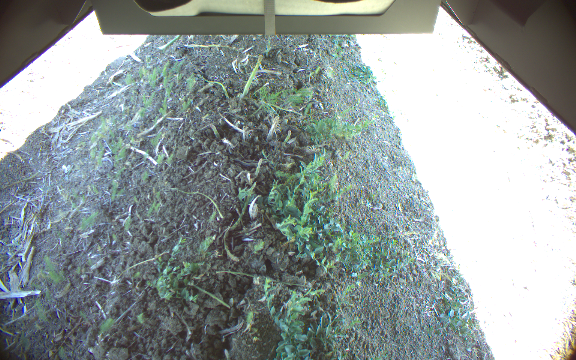aspa: (242, 54, 264, 98), (253, 157, 262, 178), (282, 129, 292, 145)
